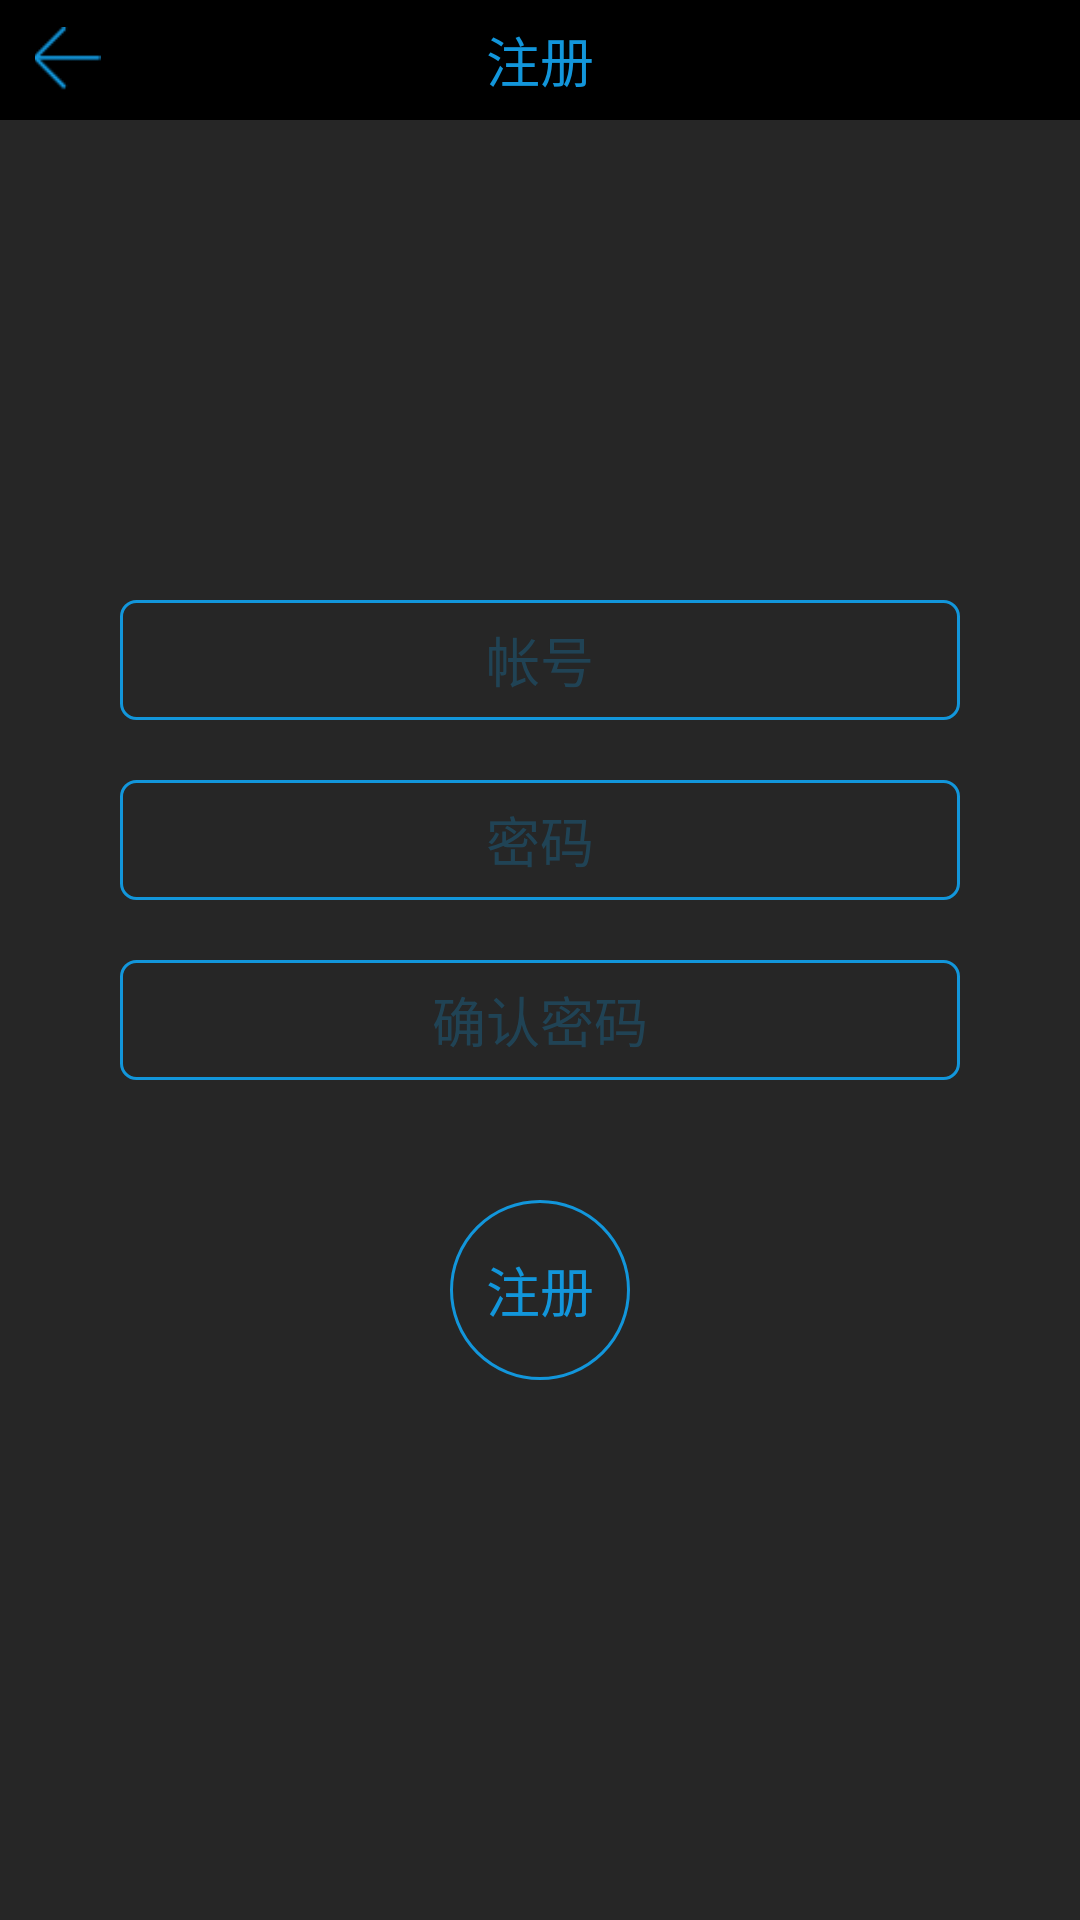

Named icons in this screenshot (1080x1920) and their bounding boxes, Rect(x1, y1, x2, y2):
pre: Rect(35, 27, 101, 89)
